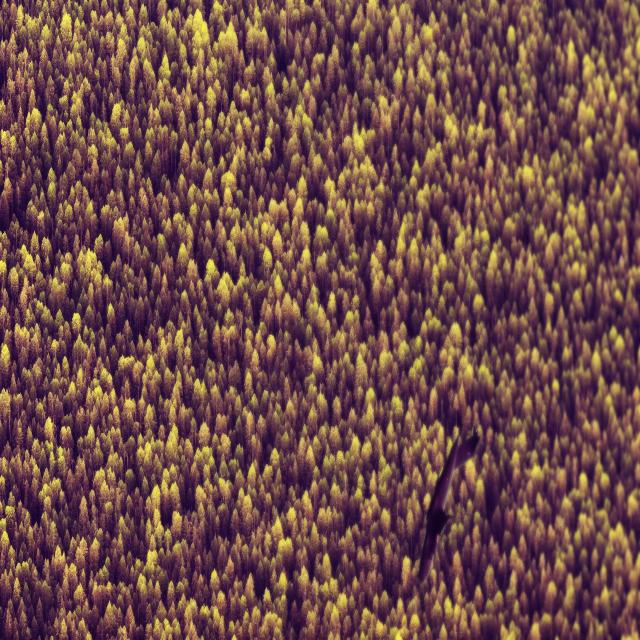airplane: (416, 430, 481, 584)
